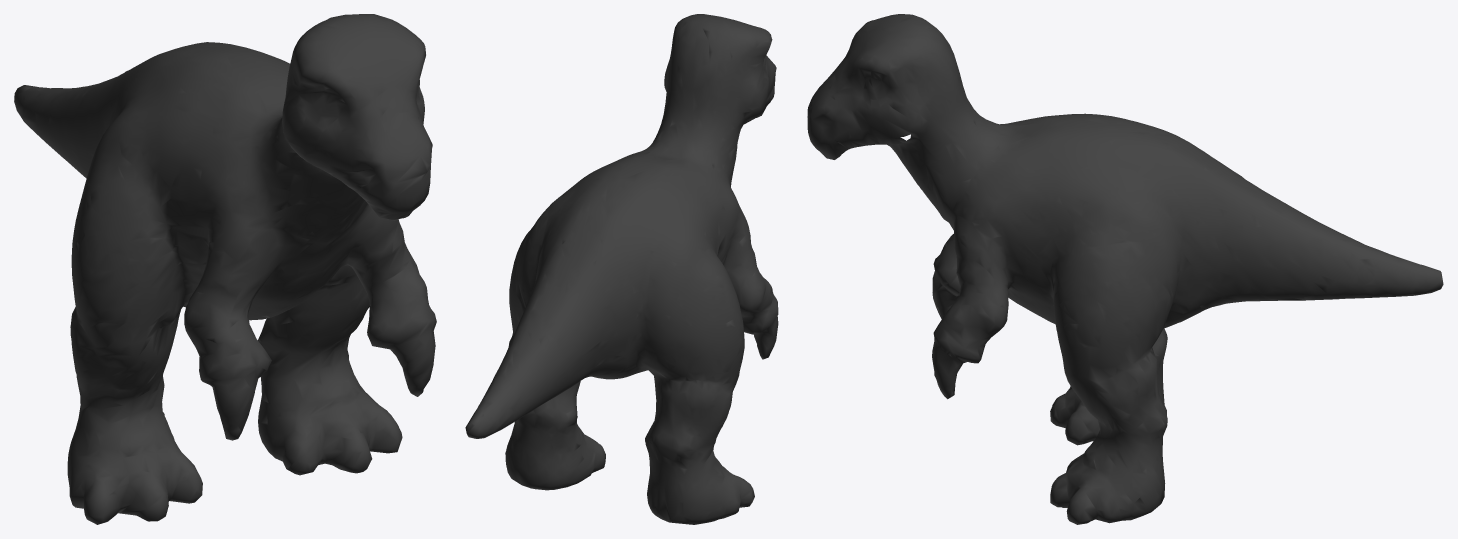
Rendered from iguanodon.glb.
3 views of the same model, side by side, from view 1: azimuth 30°, elevation 25°; view 2: azimuth 150°, elevation 25°; view 3: azimuth 270°, elevation 25° (orthographic). The views are drawn at different scales.
Parts seen in each view (by area): view 1: geometry_0; view 2: geometry_0; view 3: geometry_0.
Boxes of the visible parts, x1,y1,x2,y2 form: geometry_0: (14, 14, 436, 524); geometry_0: (465, 14, 778, 524); geometry_0: (807, 14, 1443, 524).
Bounding box in the file's own units: 0.4662 × 0.7679 × 1.
1 material, 1 textured.
